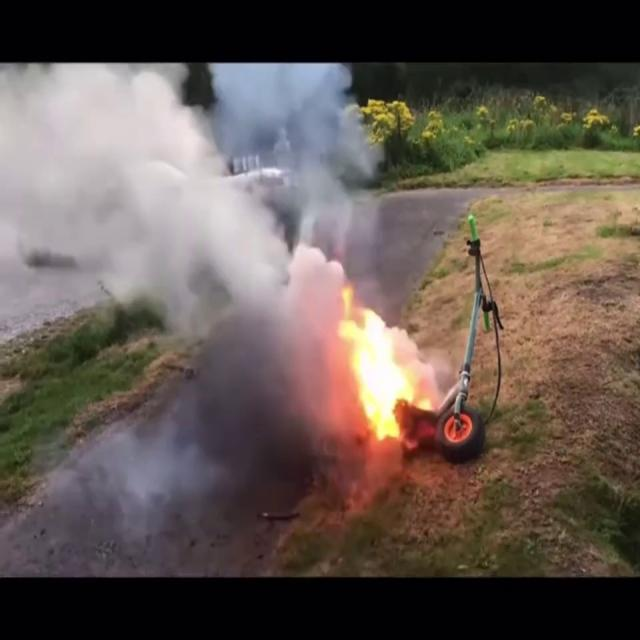Fire: (334, 281, 420, 442)
Smoke: (0, 62, 385, 340)
